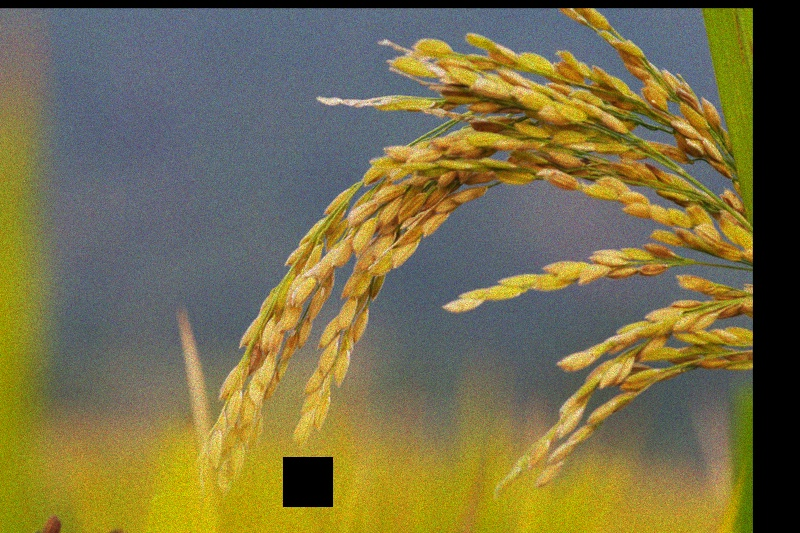rice: (196, 36, 748, 492)
